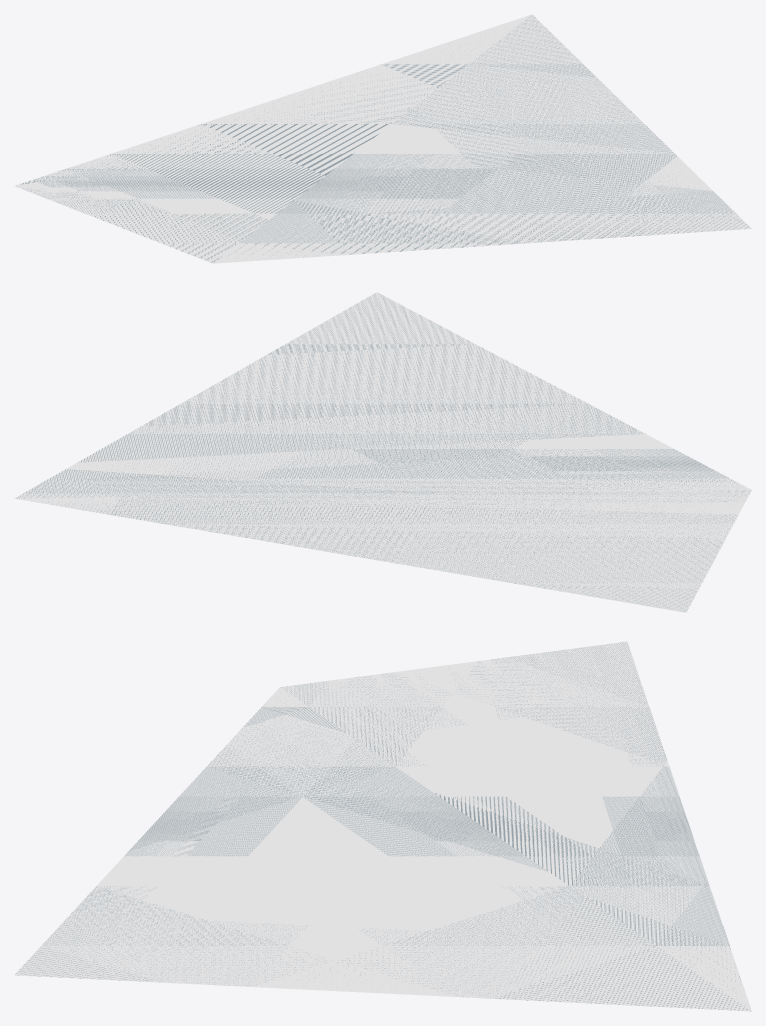
3 views of the same model, one above another, from view 1: azimuth 30°, elevation 25°; view 2: azimuth 150°, elevation 25°; view 3: azimuth 270°, elevation 25° (orthographic). The views are drawn at different scales.
Visible parts, largest first — view 1: Group1; view 2: Group1; view 3: Group1.
Part boxes in pixels (left/top/right/bottom): Group1: left=14, top=14, right=751, bottom=263; Group1: left=14, top=292, right=751, bottom=612; Group1: left=14, top=641, right=751, bottom=1011.
Size of the model in its own units: 4.24 by 0 by 3.58.
